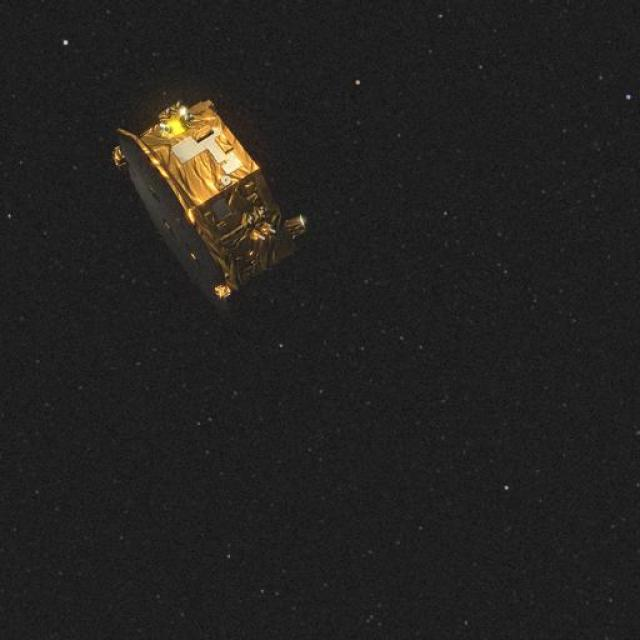lisa_pathfinder: (80, 68, 338, 324)
